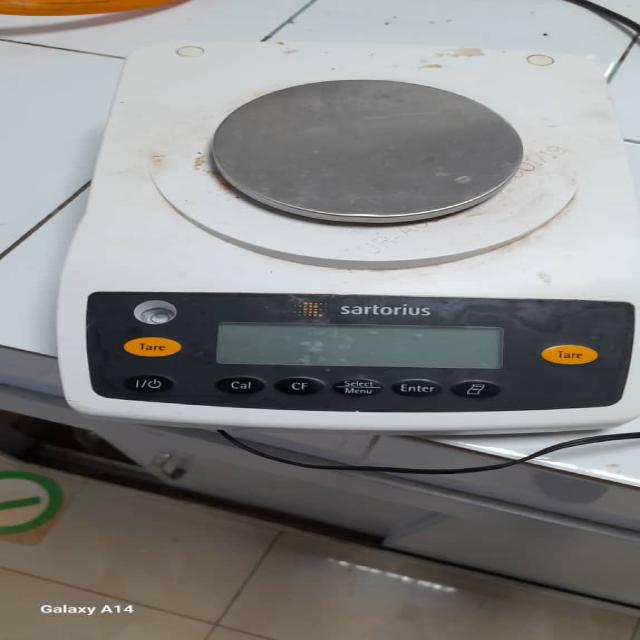Electronic balance: (51, 41, 638, 436)
